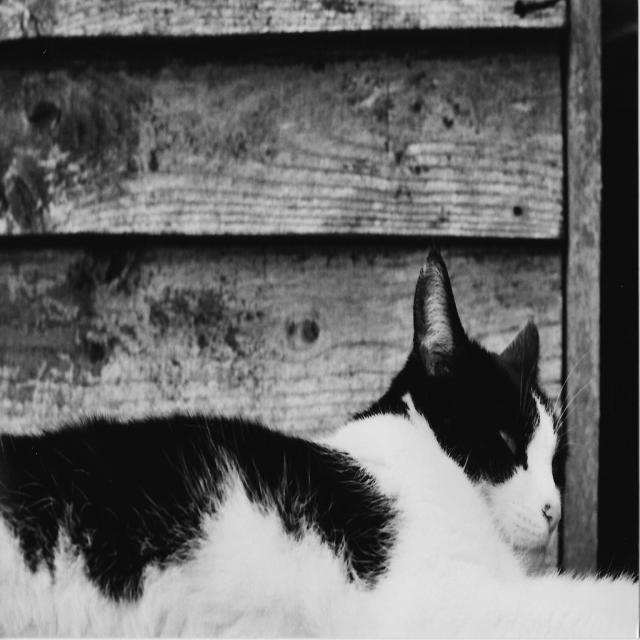Cat: (0, 250, 638, 638)
